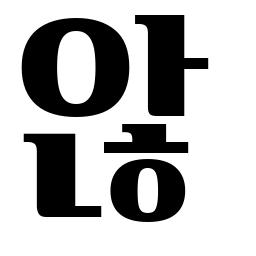Gaji: (141, 43, 199, 88)
